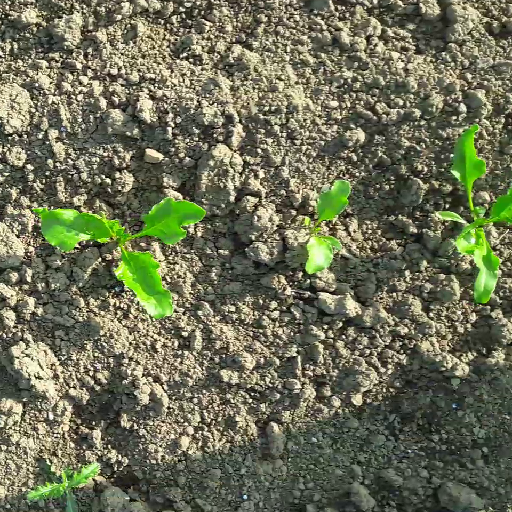sugarbeet: (32, 195, 207, 320), (437, 122, 512, 304), (300, 181, 348, 274)
weed: (23, 460, 102, 512)
